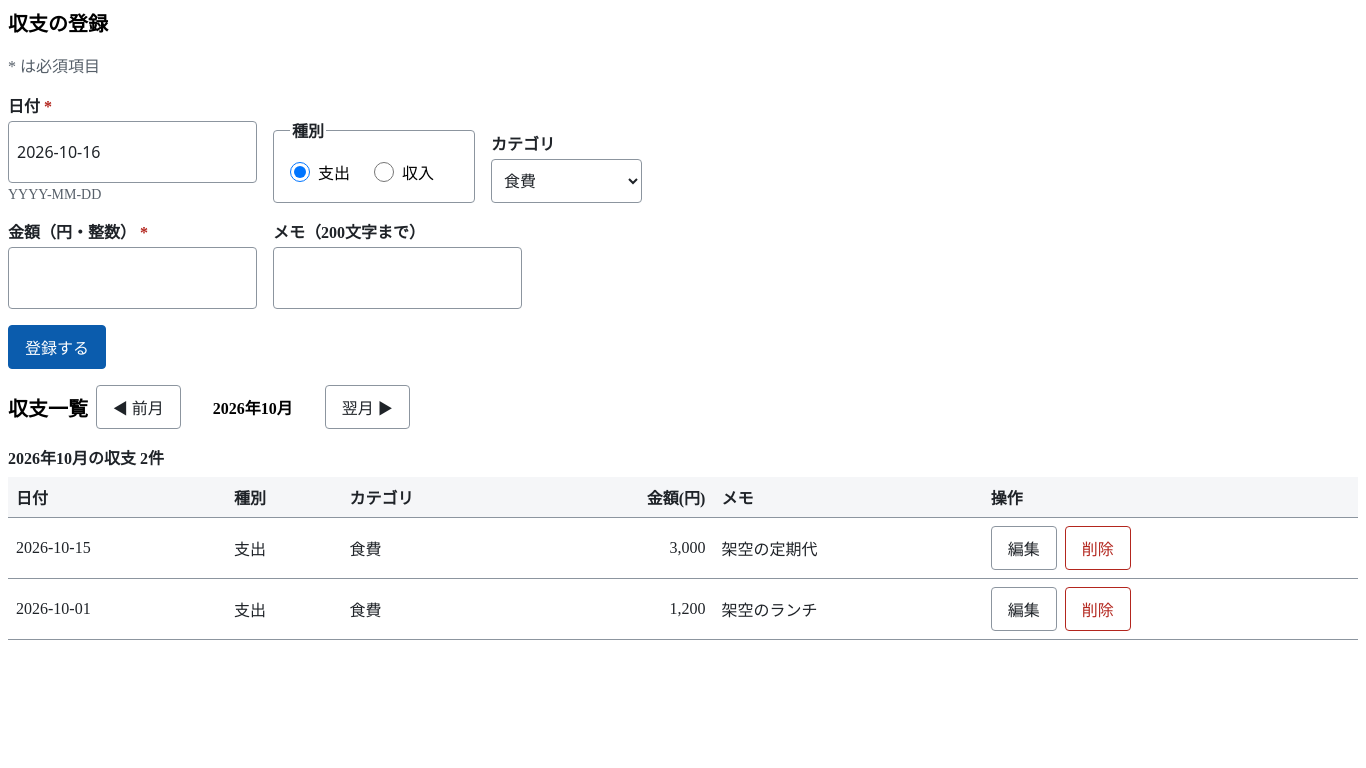
Scenario: 収支タブ › 登録に成功すると「登録しました」を出し、一覧に追加する（US2.1、BR1.5）
This screenshot has width=1366, height=768.
Check: the table "2026年10月の収支 2件" is shown, box [8,437,1358,640]
Type "800" into the field labelled "金額（円・整数）" at x=132, y=278, box [8,247,257,309]
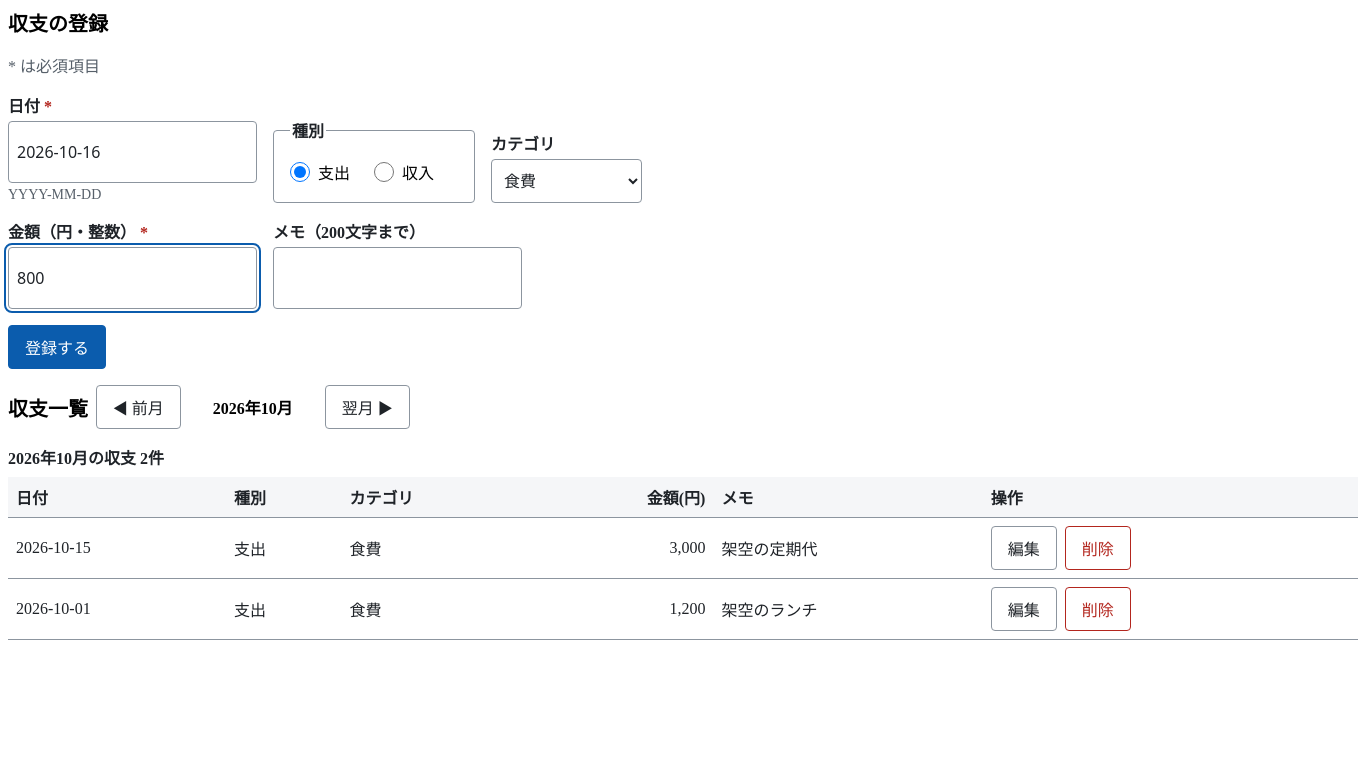
Click the button "登録する" at x=57, y=347, box [8,325,106,369]
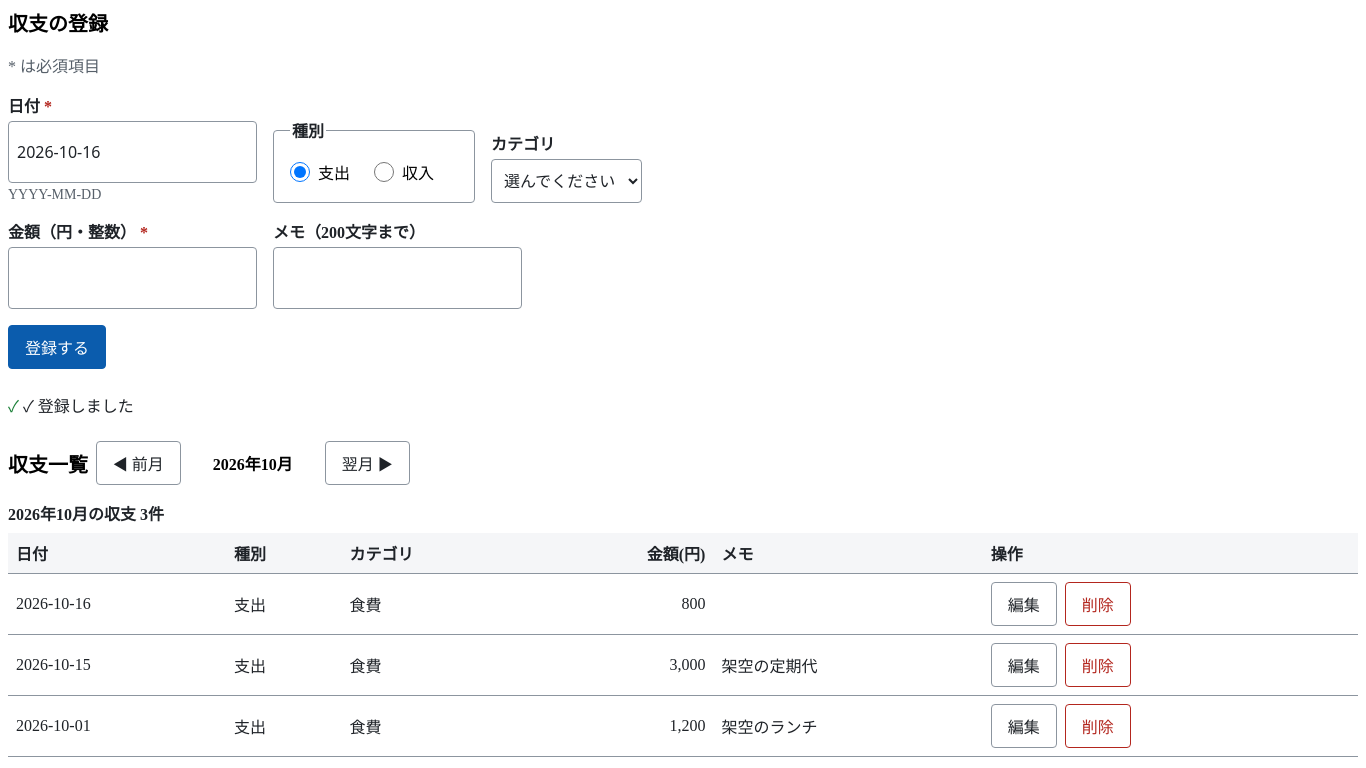
Check: the text "✓ 登録しました" is shown, box [23,398,134,415]
Check: the table "2026年10月の収支 3件" is shown, box [8,493,1358,757]
